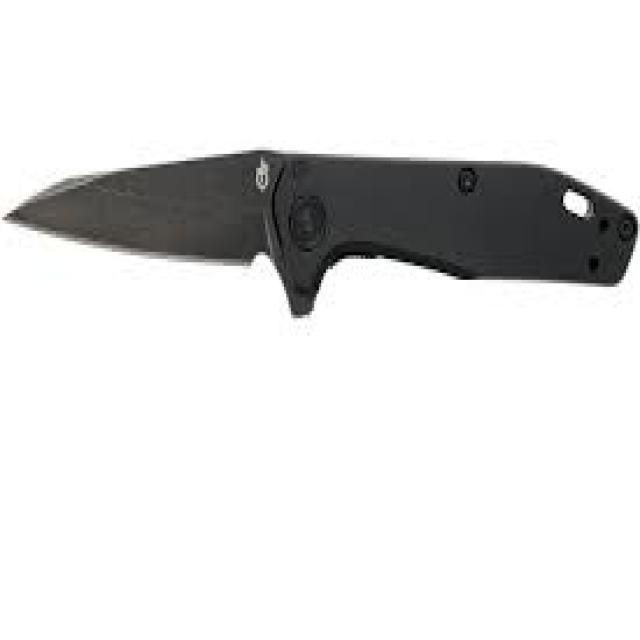knives: (0, 140, 638, 322)
